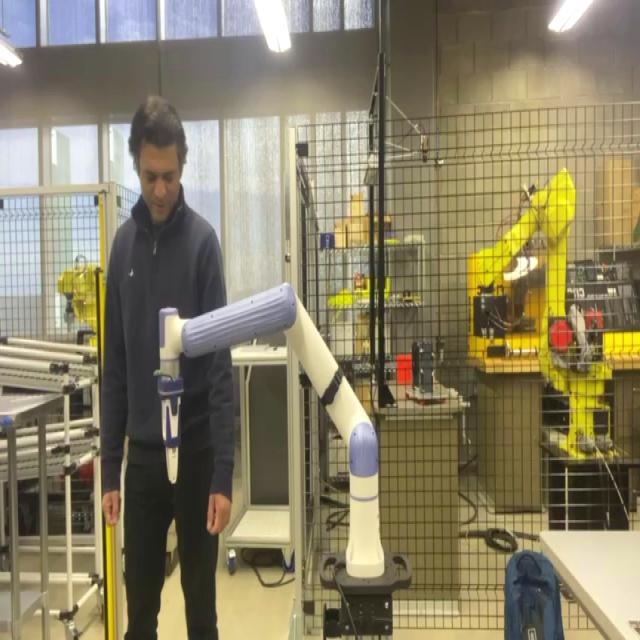robot: (154, 279, 413, 636)
